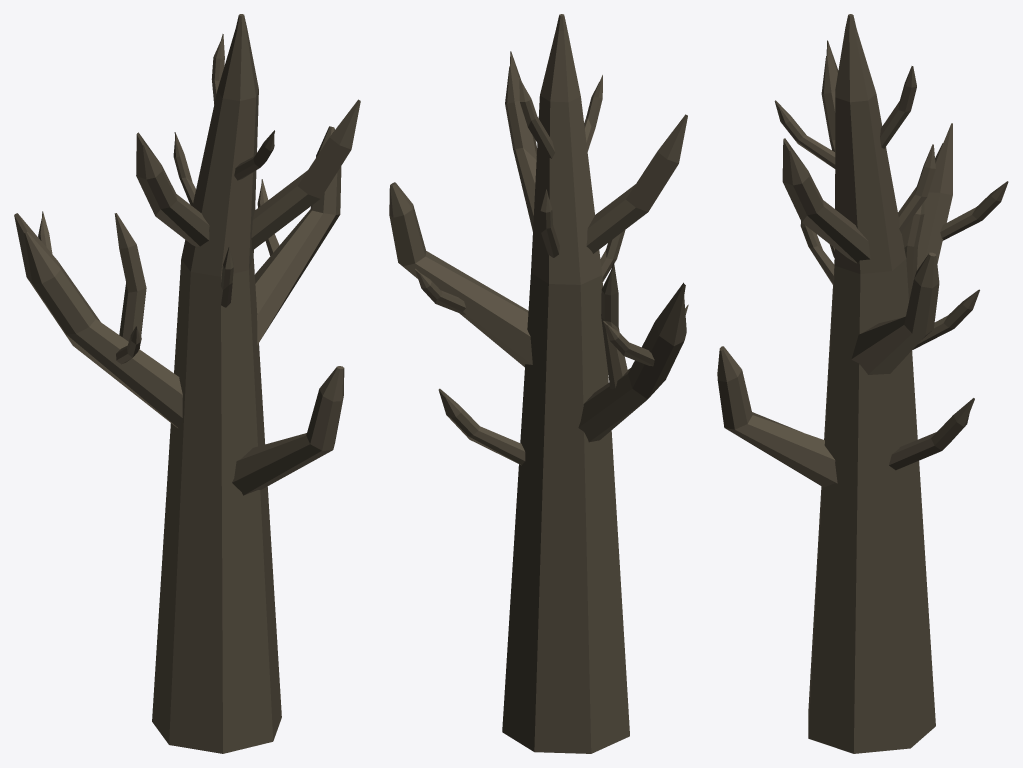
Rendered from DeadTree.fbx.
The picture shows the model from 3 angles, left to right: view 1: azimuth 30°, elevation 25°; view 2: azimuth 150°, elevation 25°; view 3: azimuth 270°, elevation 25°; orthographic projection. The views are drawn at different scales.
Parts seen in each view (by area): view 1: DeadTree; view 2: DeadTree; view 3: DeadTree.
Part boxes in pixels (x1,y1,x2,y2): DeadTree: (14, 14, 360, 753); DeadTree: (389, 14, 688, 753); DeadTree: (717, 14, 1008, 753).
Bounding box in the file's own units: 800 × 1752 × 644.
